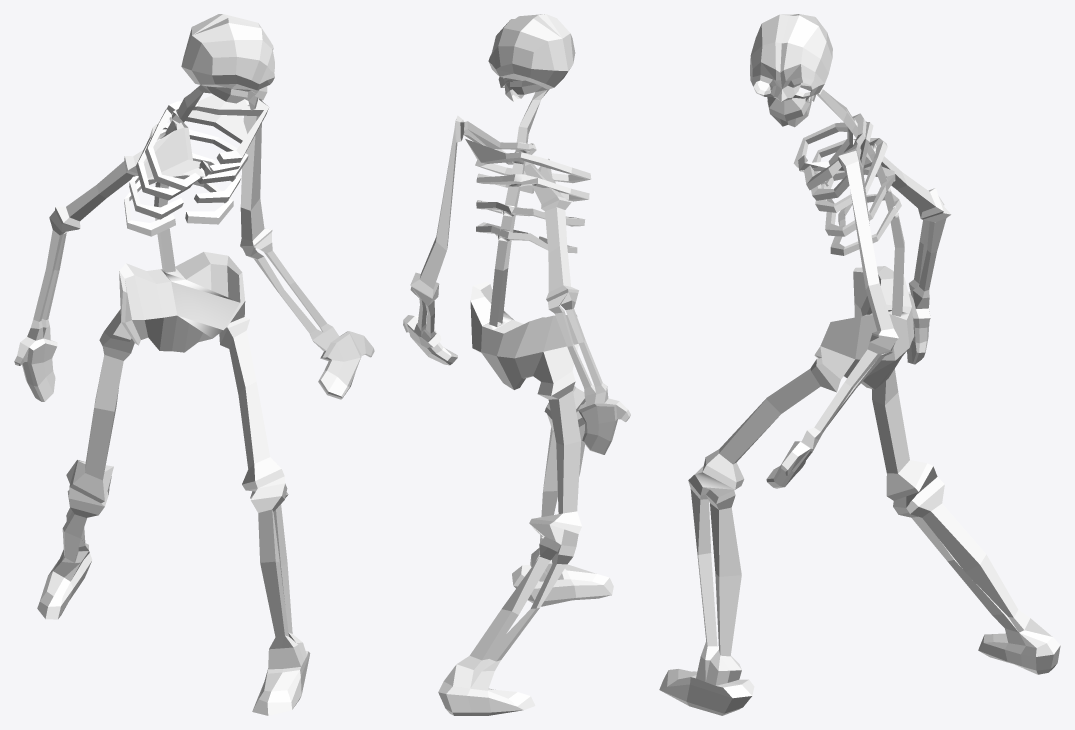
File: SkeletonIdle(27).obj
3 renders of one model, left to right at view 1: azimuth 30°, elevation 25°; view 2: azimuth 150°, elevation 25°; view 3: azimuth 270°, elevation 25°, orthographic. The views are drawn at different scales.
Visible parts, largest first — view 1: Object002; view 2: Object002; view 3: Object002.
Boxes of the visible parts, left/top/right/bottom form: Object002: left=14, top=14, right=374, bottom=715; Object002: left=403, top=14, right=630, bottom=715; Object002: left=659, top=14, right=1060, bottom=715.
Bounding box in the file's own units: 536 × 1114 × 597.
